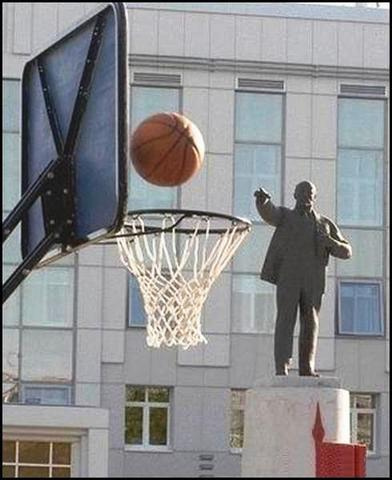basketball: (131, 111, 205, 187)
